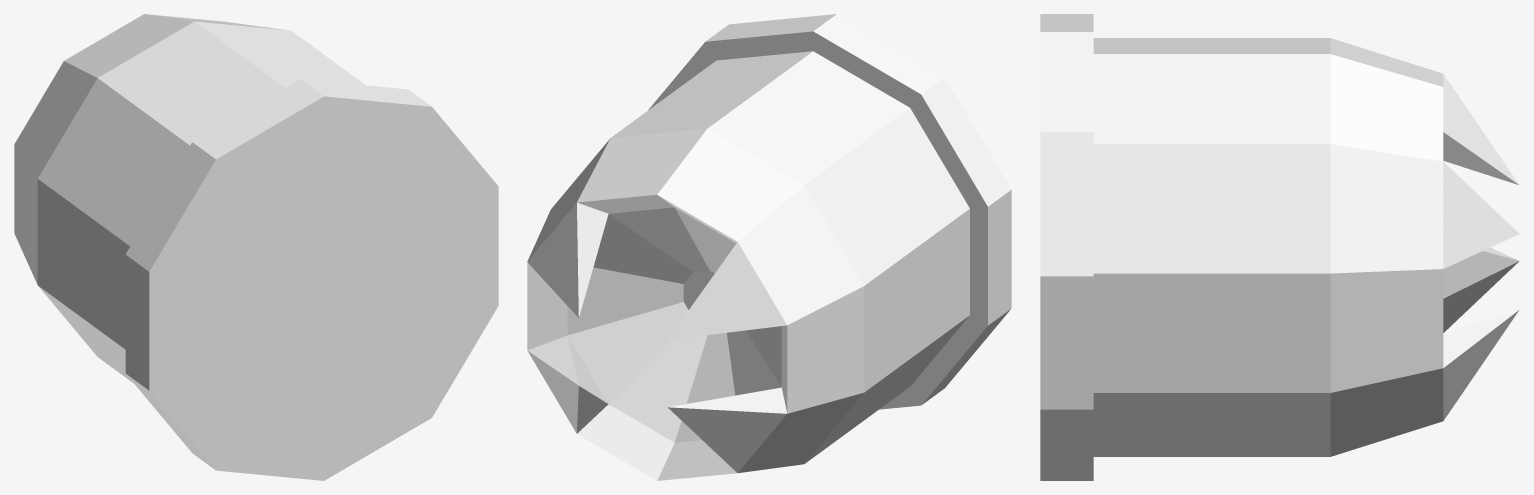
Rendered from Boss_Head.obj.
3 renders of one model, left to right at view 1: azimuth 30°, elevation 25°; view 2: azimuth 150°, elevation 25°; view 3: azimuth 270°, elevation 25°, orthographic. The views are drawn at different scales.
Visible parts, largest first — view 1: 円柱; view 2: 円柱; view 3: 円柱.
Part boxes in pixels (bbox=[...]): 円柱: bbox=[14, 14, 498, 480]; 円柱: bbox=[527, 14, 1011, 480]; 円柱: bbox=[1040, 14, 1519, 480].
Size of the model in its own units: 1.06 by 1.11 by 1.12.
Materials: 1 (1 with a texture image).
